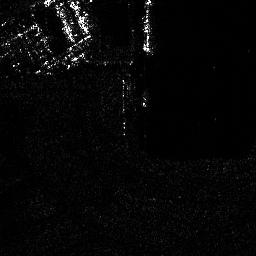ship: (140, 1, 154, 54)
